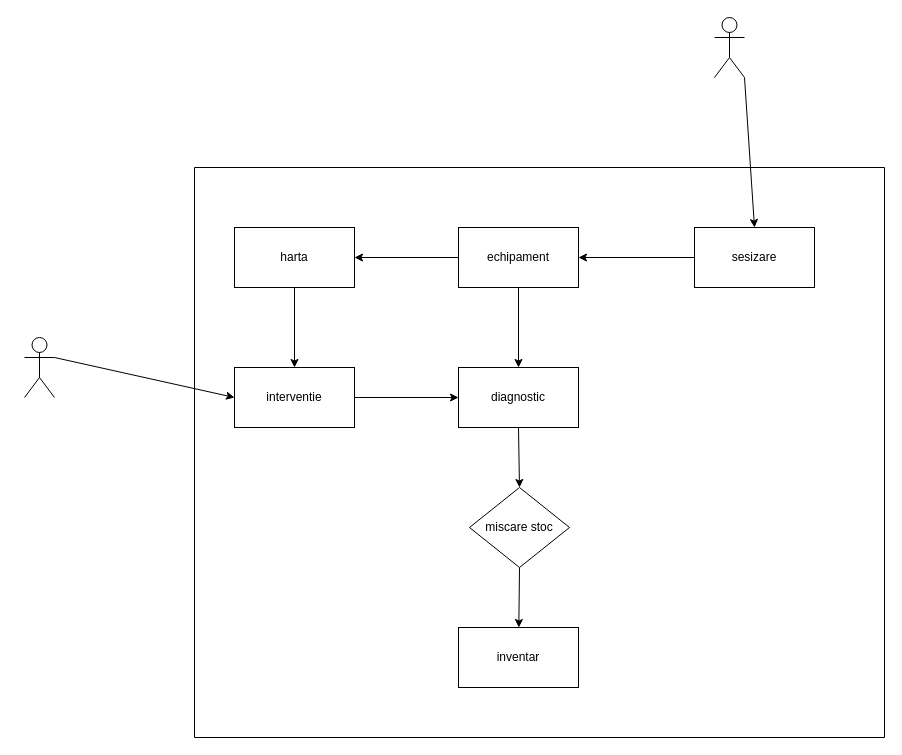
The diagram is 902 pixels wide and 755 high, and some of its shapes have lost their labels. The shapes that lost their labels are listed below. From the top down, each one's centre as x and y in pixels, then its label:
At point (729, 47): "operator CNC".
At point (39, 367): "mecanic".
